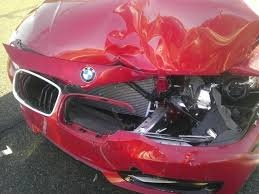Broken-glass: (152, 74, 257, 139)
Dent: (105, 3, 259, 79), (121, 138, 234, 188), (60, 44, 118, 74), (8, 33, 35, 65)
Smashed: (18, 68, 154, 154)
